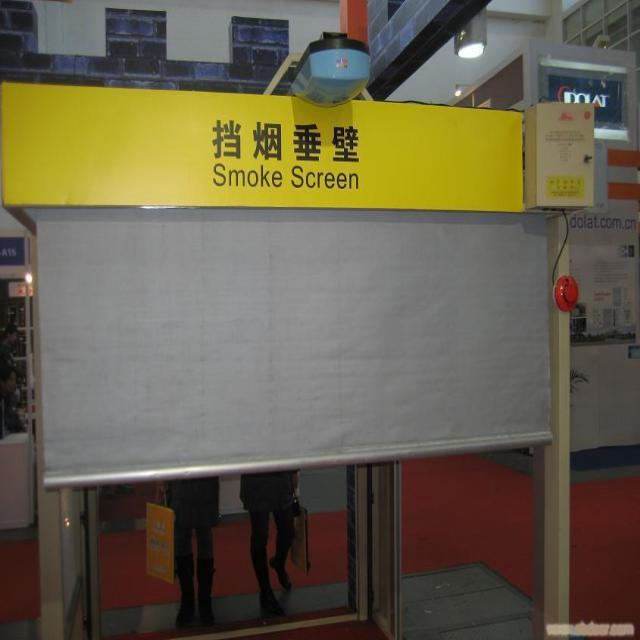other: (2, 80, 524, 222), (142, 498, 179, 582), (546, 258, 594, 320), (542, 170, 594, 213), (606, 146, 639, 196)
